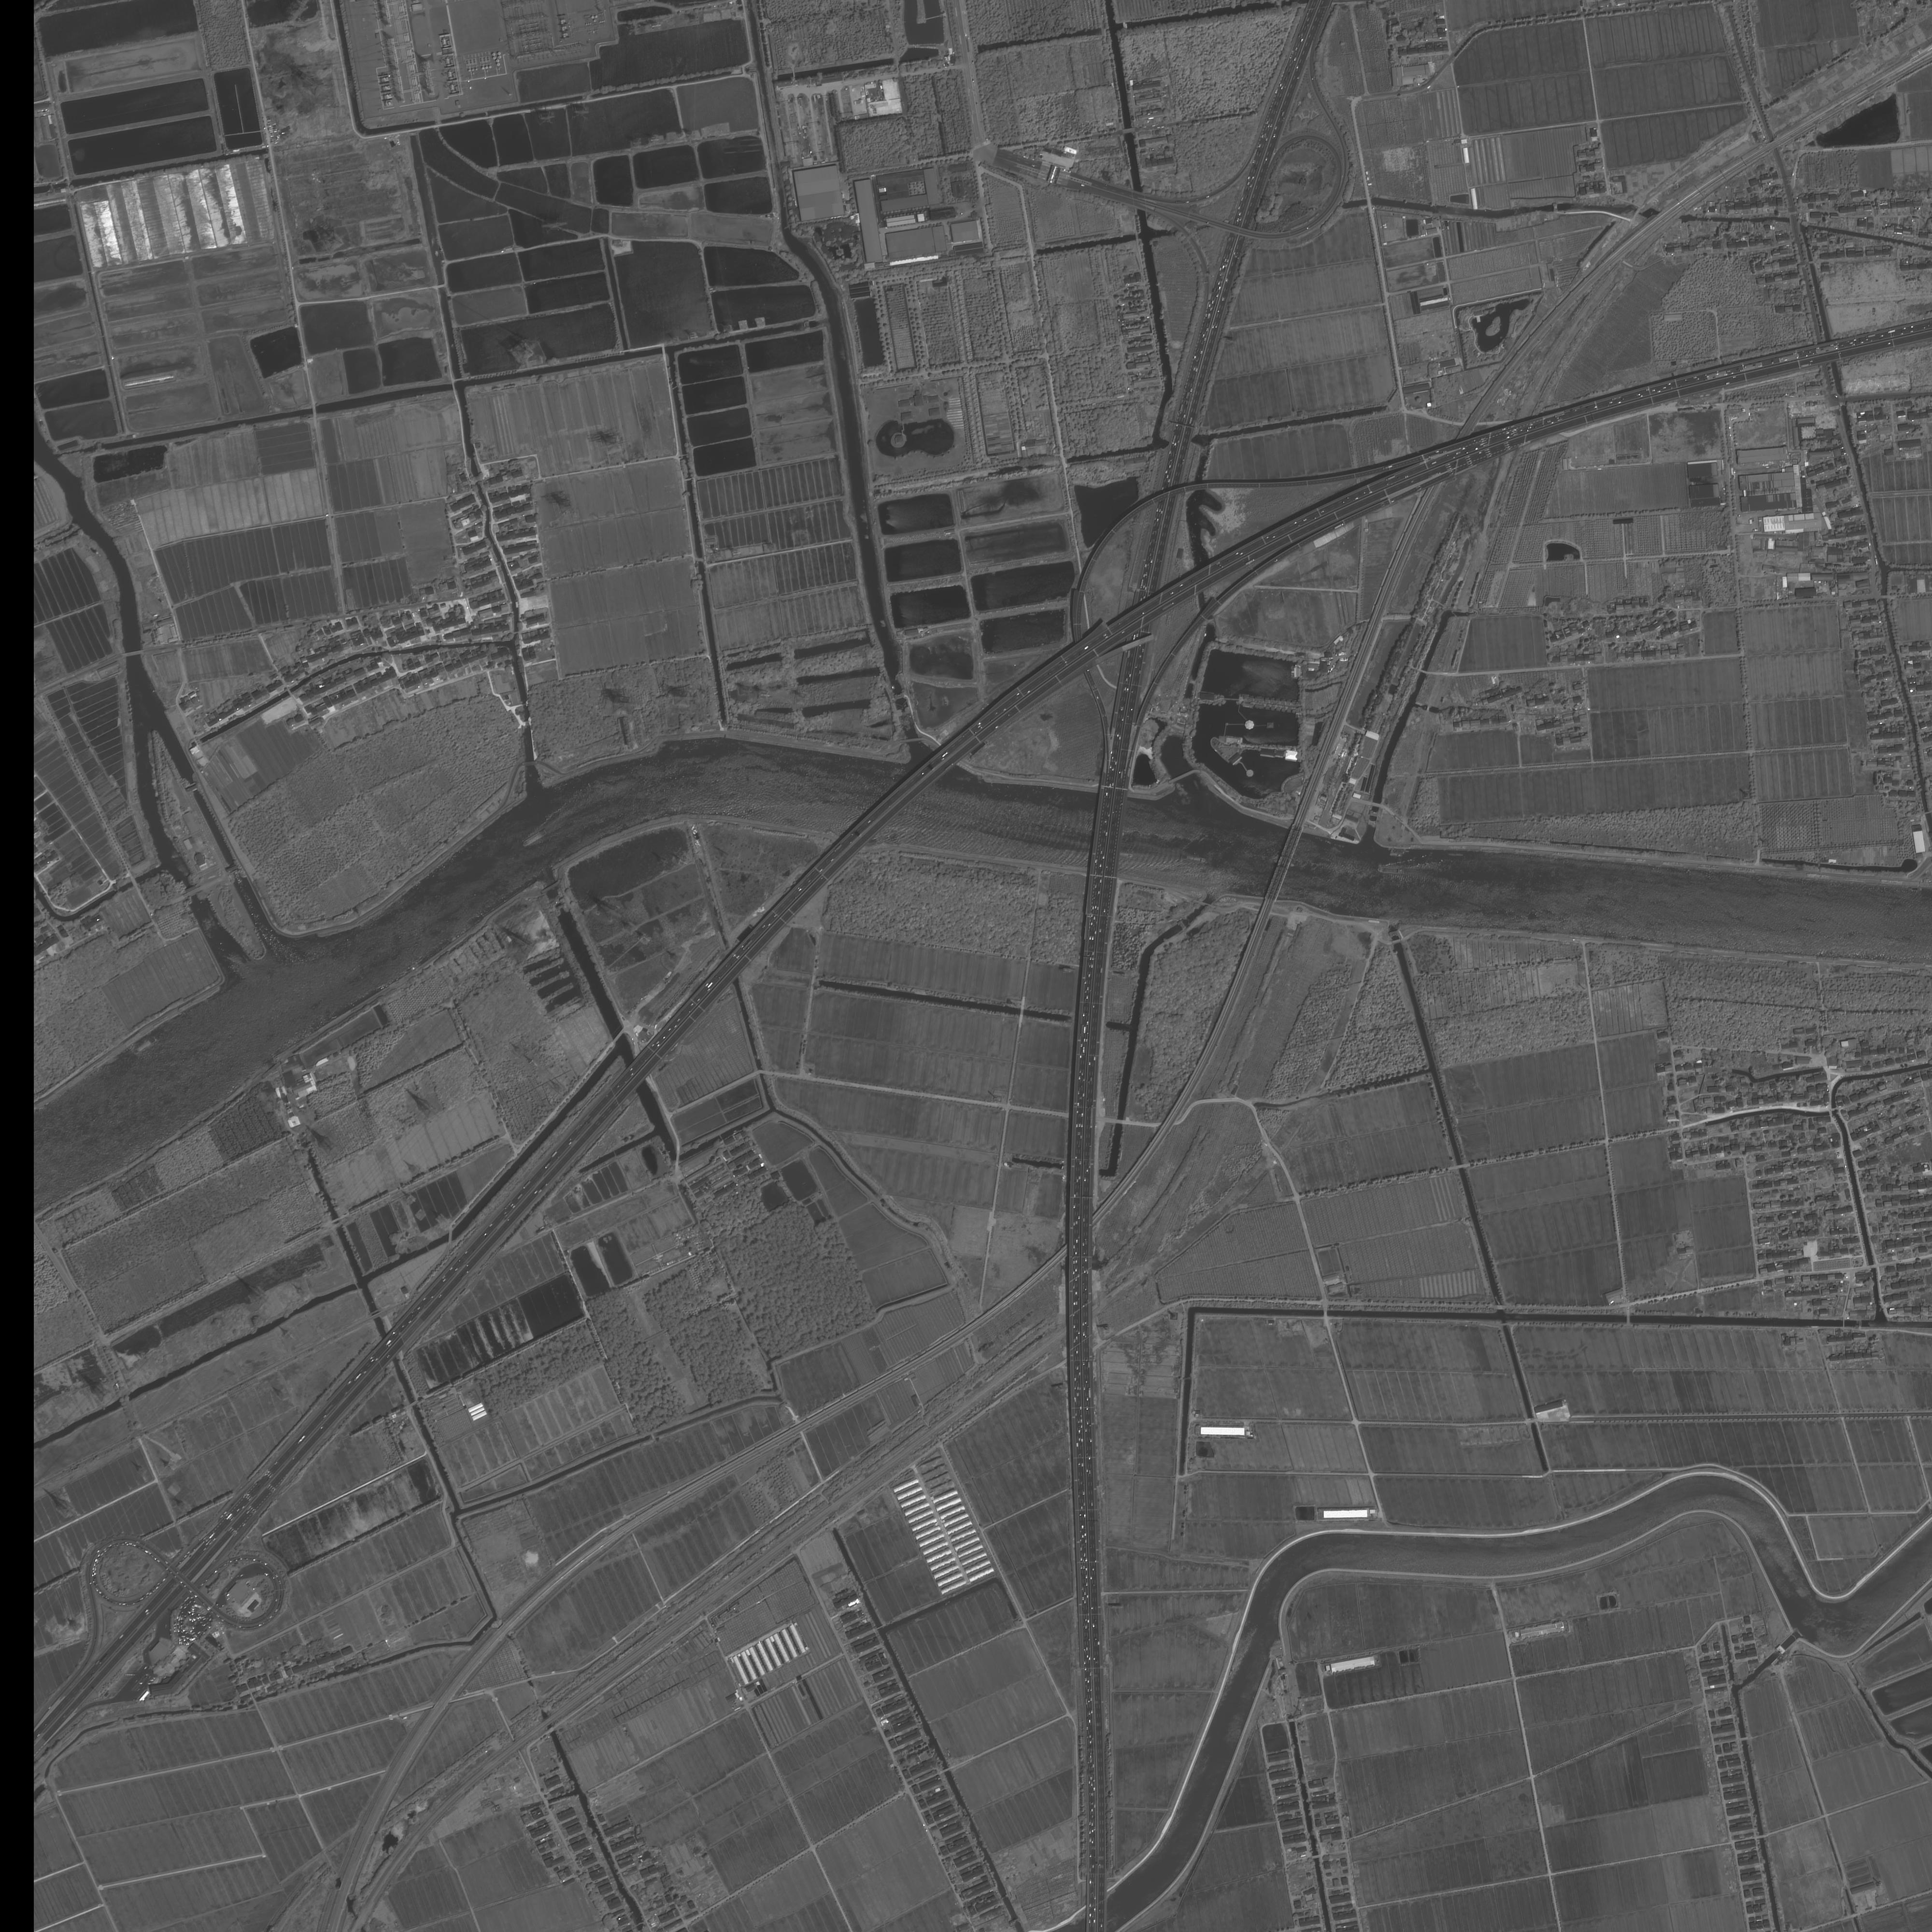ship: (133, 1035, 159, 1058), (522, 828, 548, 847), (1180, 855, 1207, 863), (1376, 867, 1407, 874)
